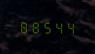eight: (18, 19, 28, 33), (29, 19, 39, 33)
five: (40, 19, 50, 34)
four: (51, 20, 61, 34), (62, 20, 72, 34)
